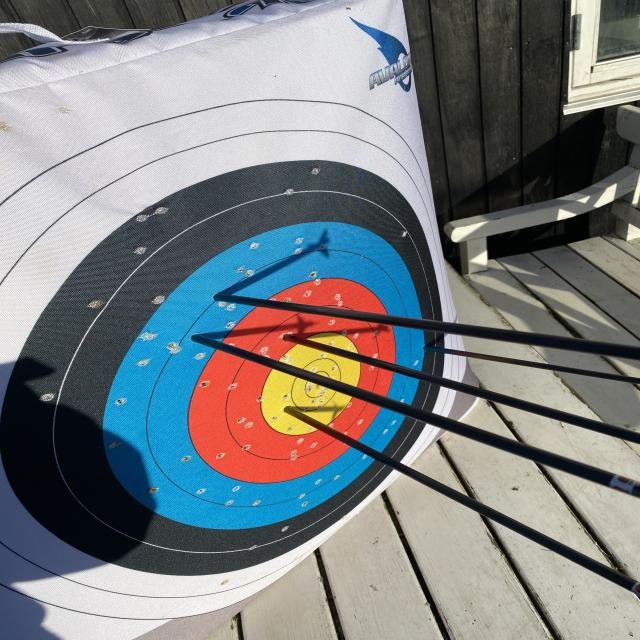Arrow_Black: (418, 342, 439, 360)
Arrow_Blue: (203, 283, 241, 309), (181, 327, 213, 347)
Arrow_Red: (274, 326, 306, 352)
Arrow_Yellow: (278, 398, 307, 429)
